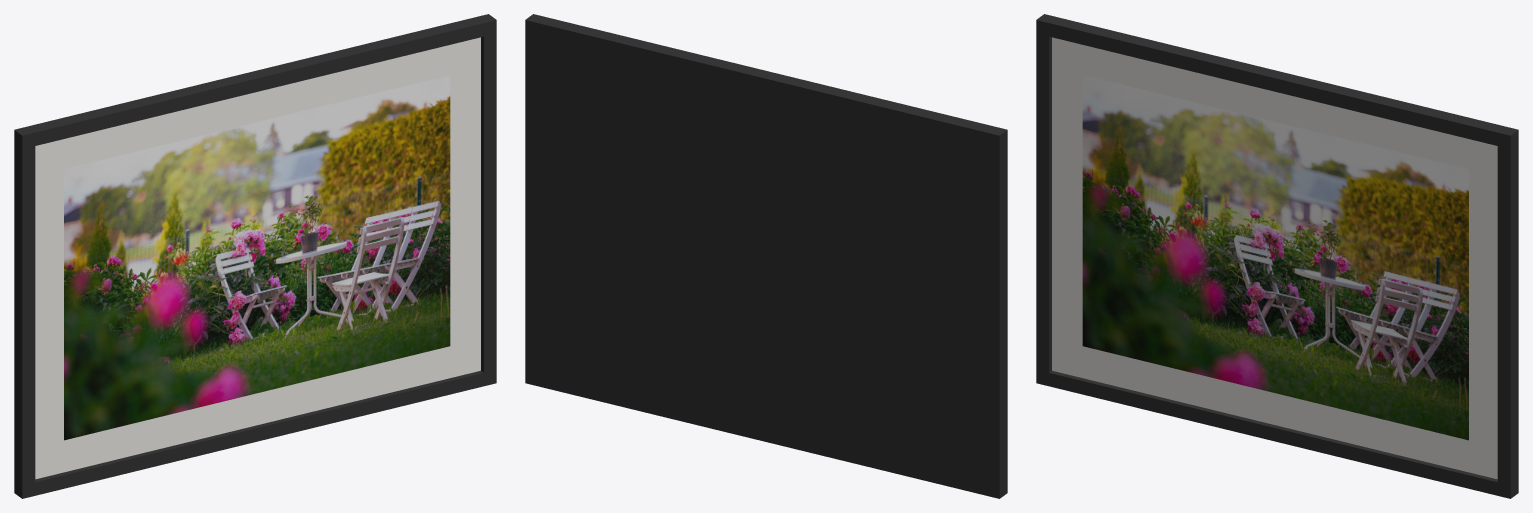
The model's file is pionerna-60.gltf.
The picture shows the model from 3 angles, left to right: view 1: azimuth 30°, elevation 25°; view 2: azimuth 150°, elevation 25°; view 3: azimuth 330°, elevation 25°; orthographic projection.
Visible parts, largest first — view 1: tavla; view 2: tavla; view 3: tavla.
Part boxes in pixels (x1,y1,x2,y2): tavla: (14, 14, 496, 498); tavla: (525, 14, 1007, 498); tavla: (1036, 14, 1518, 498).
Bounding box in the file's own units: 0.7366 × 0.5389 × 0.022.
3 materials, 1 textured.
